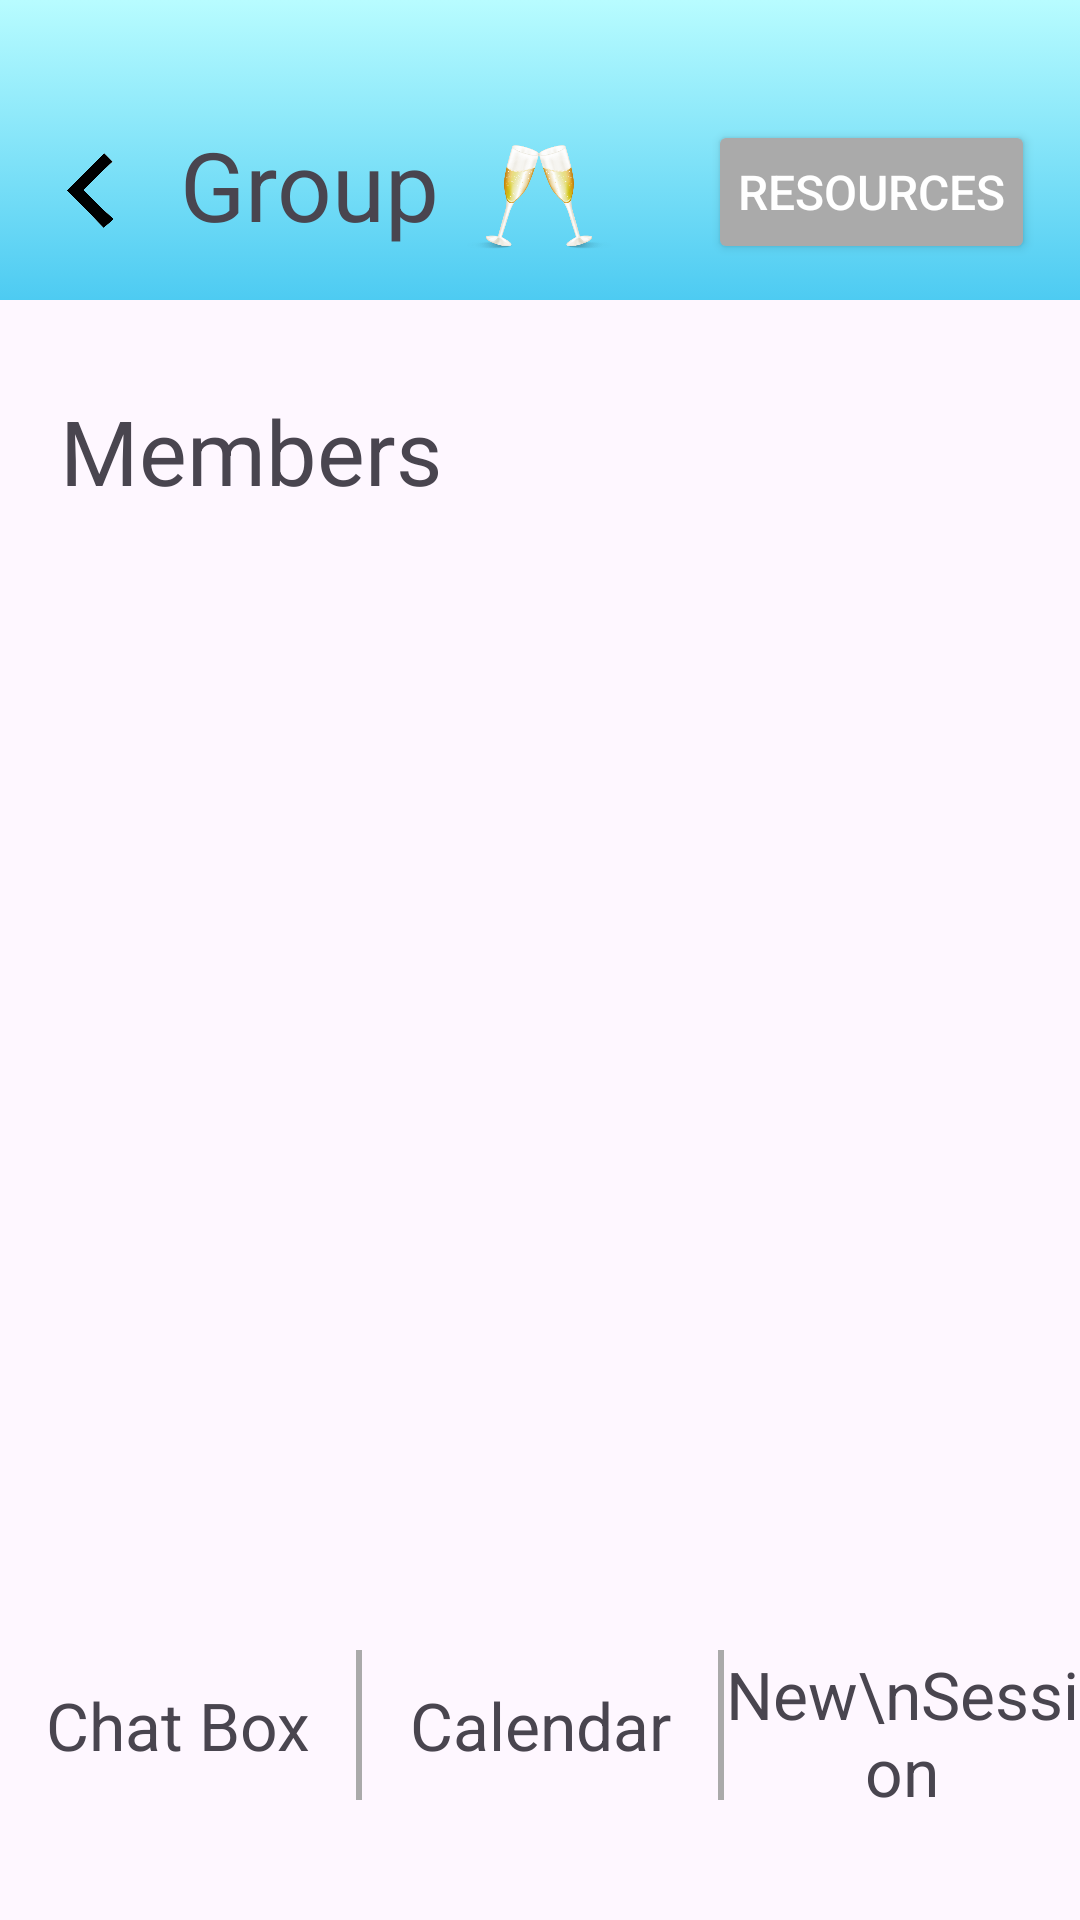

Screen size 1080×1920. Icon name, then its center in pixels as (x=x, y=y):
champagne: (x=539, y=195)
